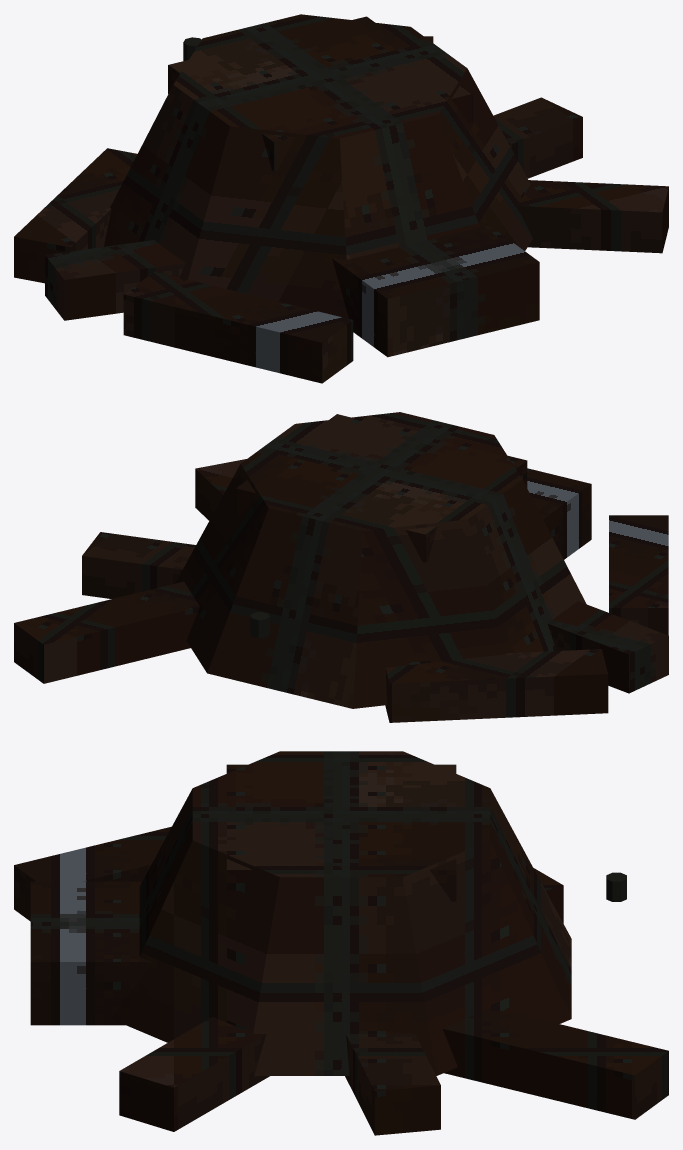
The model's file is enemy_role_scuttler.glb.
The picture shows the model from 3 angles, top to bottom: view 1: azimuth 30°, elevation 25°; view 2: azimuth 150°, elevation 25°; view 3: azimuth 270°, elevation 25°; orthographic projection. The views are drawn at different scales.
Parts seen in each view (by area): view 1: enemy_role_scuttler; view 2: enemy_role_scuttler, anchor_strike; view 3: enemy_role_scuttler, anchor_strike.
Part boxes in pixels (x1=…): enemy_role_scuttler: x1=14, y1=14, x2=668, y2=383; enemy_role_scuttler: x1=14, y1=412, x2=668, y2=722; anchor_strike: x1=250, y1=612, x2=269, y2=637; enemy_role_scuttler: x1=14, y1=751, x2=668, y2=1135; anchor_strike: x1=606, y1=872, x2=626, y2=901.
Bounding box in the file's own units: 1.24 × 0.341 × 1.16.
Materials: 4 (4 with a texture image).
